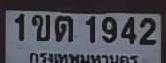1: (14, 13, 23, 40), (85, 15, 94, 42)
2: (139, 17, 155, 44)
4: (120, 16, 135, 43)
9: (101, 16, 116, 42)
A02: (31, 14, 49, 40)
A21: (54, 15, 72, 41)
BKK: (27, 50, 142, 63)
